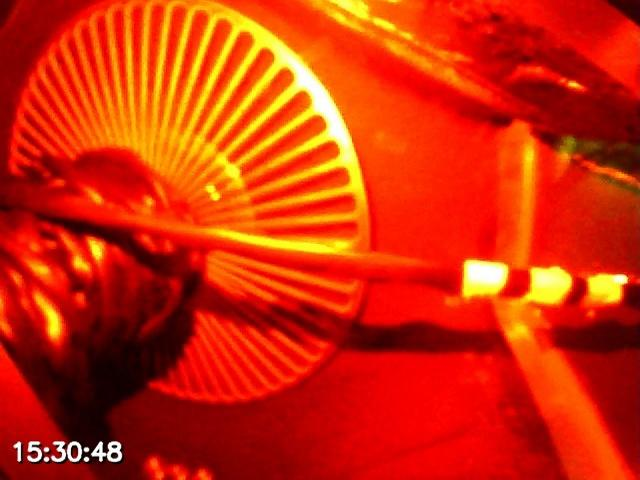white-dots: (460, 257, 623, 307)
